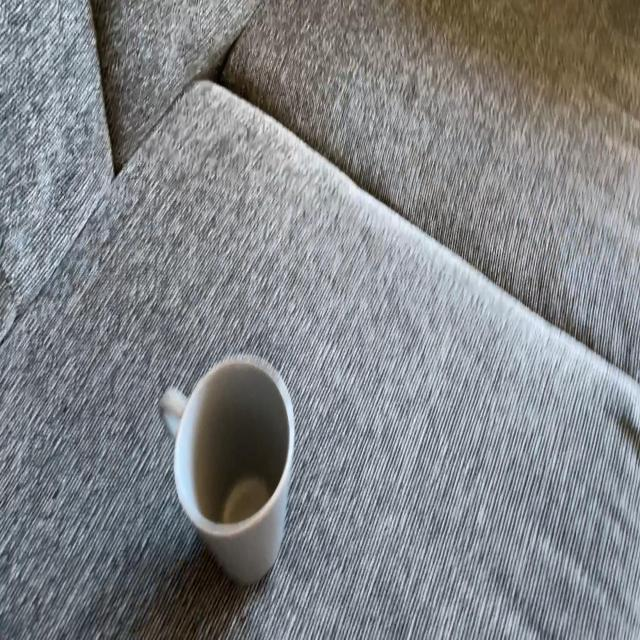cup: (159, 354, 297, 588)
